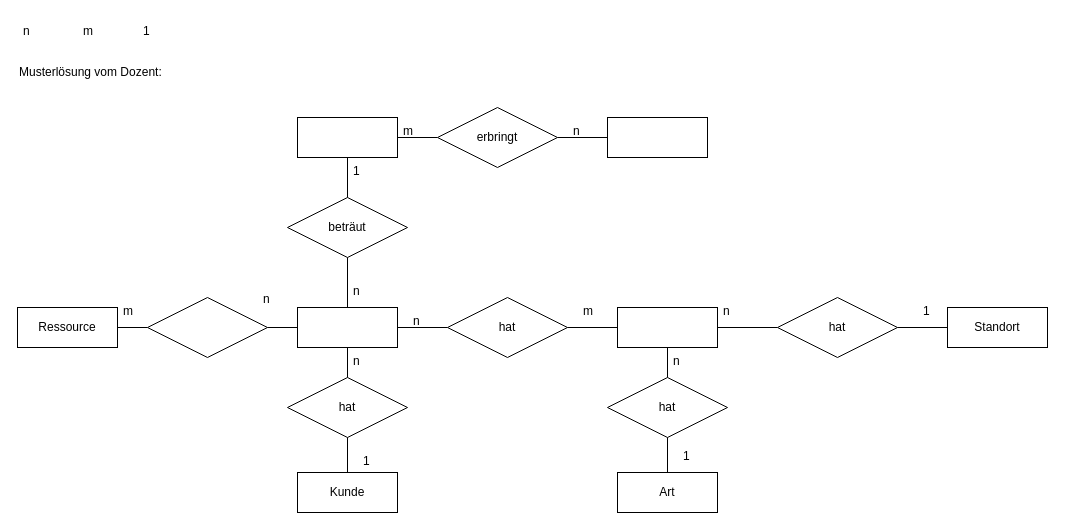
This 1065x530 diagram has some shape labels left out. Each missing label, with the centre of its shape:
"Buchung" goes at point 347,327.
"gehört zu" goes at point 207,327.
"Mitarbeiter" goes at point 347,137.
"Raum" goes at point 667,327.
"Serviceleistungen" goes at point 657,137.
